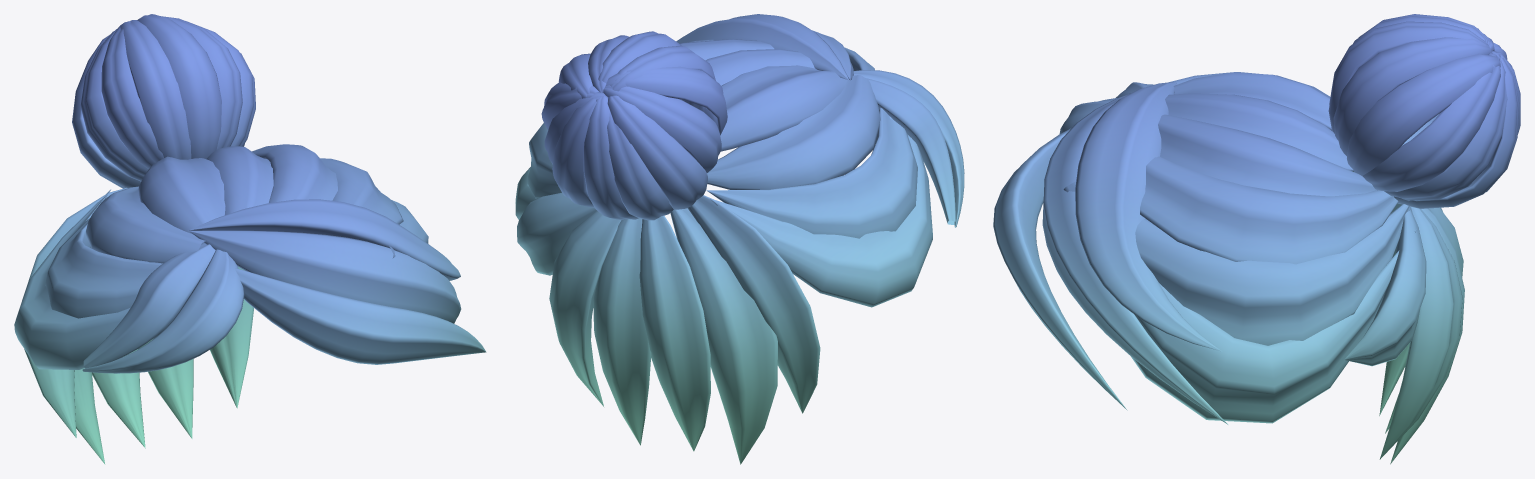
The model's file is haire4.fbx.
3 views of the same model, side by side, from view 1: azimuth 30°, elevation 25°; view 2: azimuth 150°, elevation 25°; view 3: azimuth 270°, elevation 25° (orthographic). The views are drawn at different scales.
Parts seen in each view (by area): view 1: NurbsPath.042; view 2: NurbsPath.042; view 3: NurbsPath.042.
Part boxes in pixels (box(x1,y1,x2,y2)): NurbsPath.042: box(14, 14, 486, 464); NurbsPath.042: box(515, 14, 964, 464); NurbsPath.042: box(993, 14, 1520, 464).
Bounding box in the file's own units: 300 × 277 × 273.
